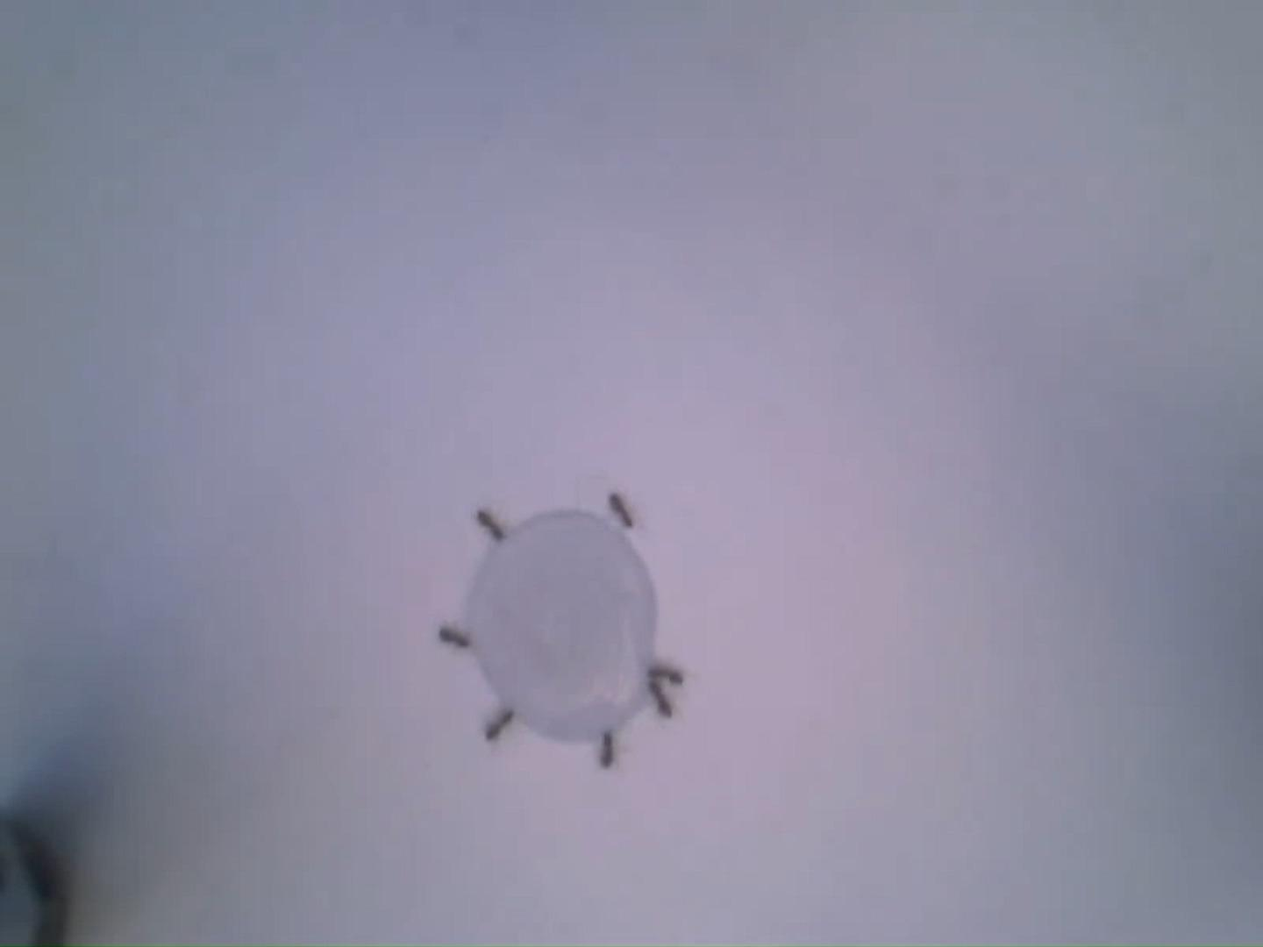Ant: (487, 709, 517, 742), (653, 677, 676, 718), (441, 625, 475, 651), (611, 493, 636, 527), (479, 509, 506, 540), (650, 664, 686, 687), (601, 732, 620, 769)
